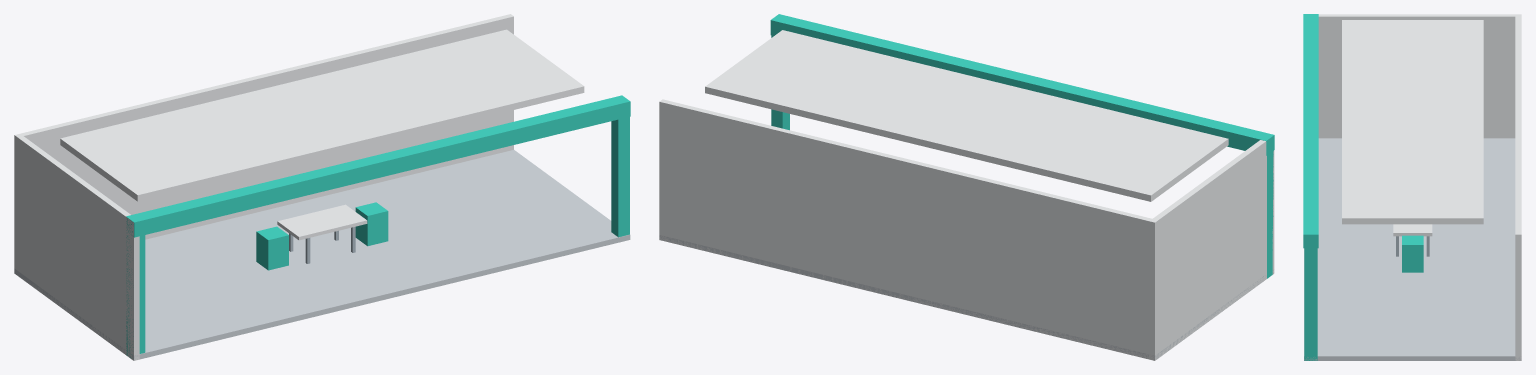
The picture shows the model from 3 angles, left to right: view 1: azimuth 30°, elevation 25°; view 2: azimuth 150°, elevation 25°; view 3: azimuth 270°, elevation 25°; orthographic projection. The views are drawn at different scales.
Parts seen in each view (by area): view 1: Exhibition Booth Concept; view 2: Exhibition Booth Concept; view 3: Exhibition Booth Concept.
Part boxes in pixels (<box>): Exhibition Booth Concept: <box>14,14,630,360</box>; Exhibition Booth Concept: <box>659,14,1274,360</box>; Exhibition Booth Concept: <box>1303,14,1521,360</box>.
Bounding box in the file's own units: 12 × 3.34 × 5.02.
